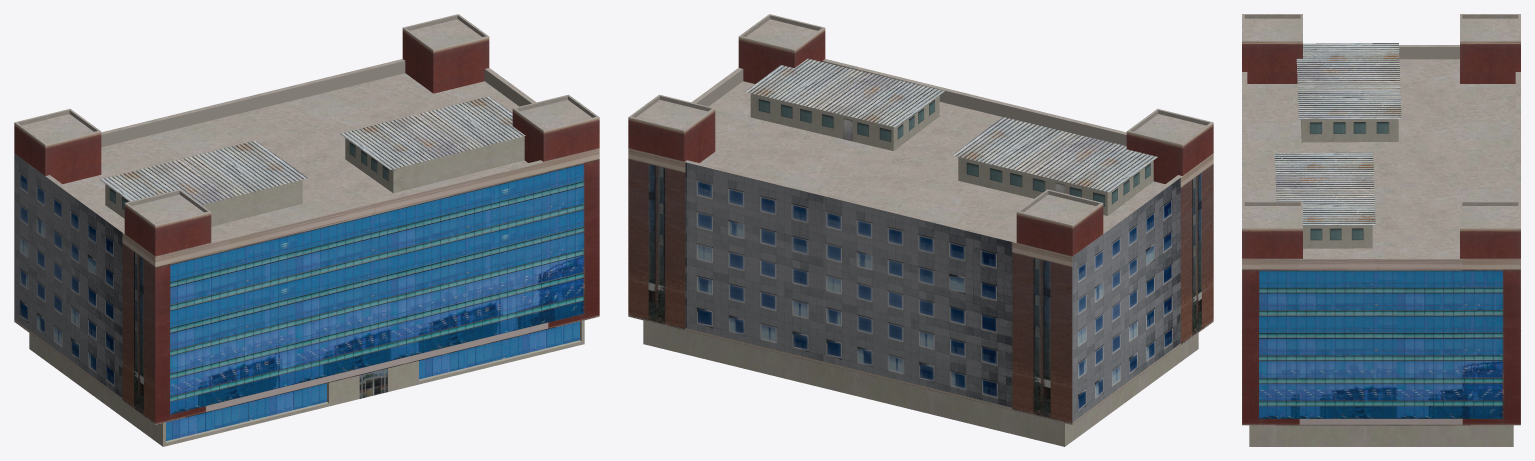
File: IT_Building_001.fbx
3 renders of one model, left to right at view 1: azimuth 30°, elevation 25°; view 2: azimuth 150°, elevation 25°; view 3: azimuth 270°, elevation 25°, orthographic.
Parts seen in each view (by area): view 1: Cube.011; view 2: Cube.011; view 3: Cube.011.
Boxes of the visible parts, left/top/right/bottom form: Cube.011: left=14, top=14, right=599, bottom=446; Cube.011: left=628, top=14, right=1213, bottom=446; Cube.011: left=1242, top=14, right=1520, bottom=446.
Size of the model in its own units: 6111 by 2983 by 3360.
1 material, 1 textured.
